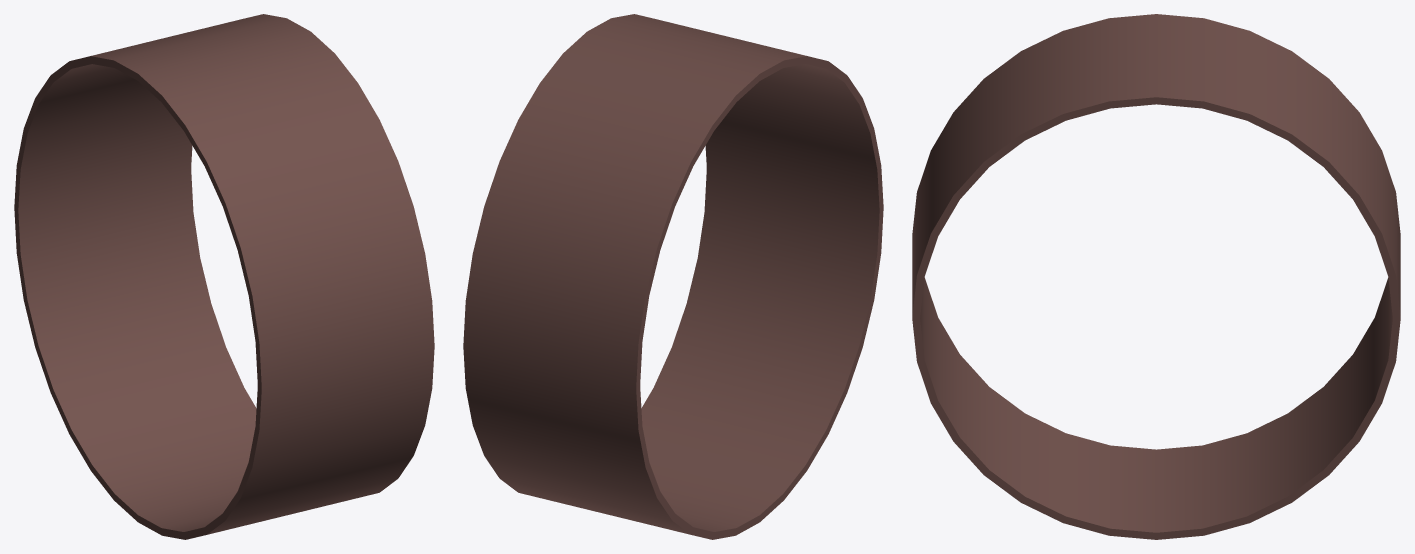
Rendered from Maze01.fbx.
3 views of the same model, side by side, from view 1: azimuth 30°, elevation 25°; view 2: azimuth 150°, elevation 25°; view 3: azimuth 270°, elevation 25° (orthographic).
Parts seen in each view (by area): view 1: Circle.170; view 2: Circle.170; view 3: Circle.170.
Boxes of the visible parts, x1,y1,x2,y2 form: Circle.170: [14, 14, 434, 539]; Circle.170: [463, 14, 883, 539]; Circle.170: [912, 14, 1400, 539].
Bounding box in the file's own units: 2500 × 6201 × 6201.
